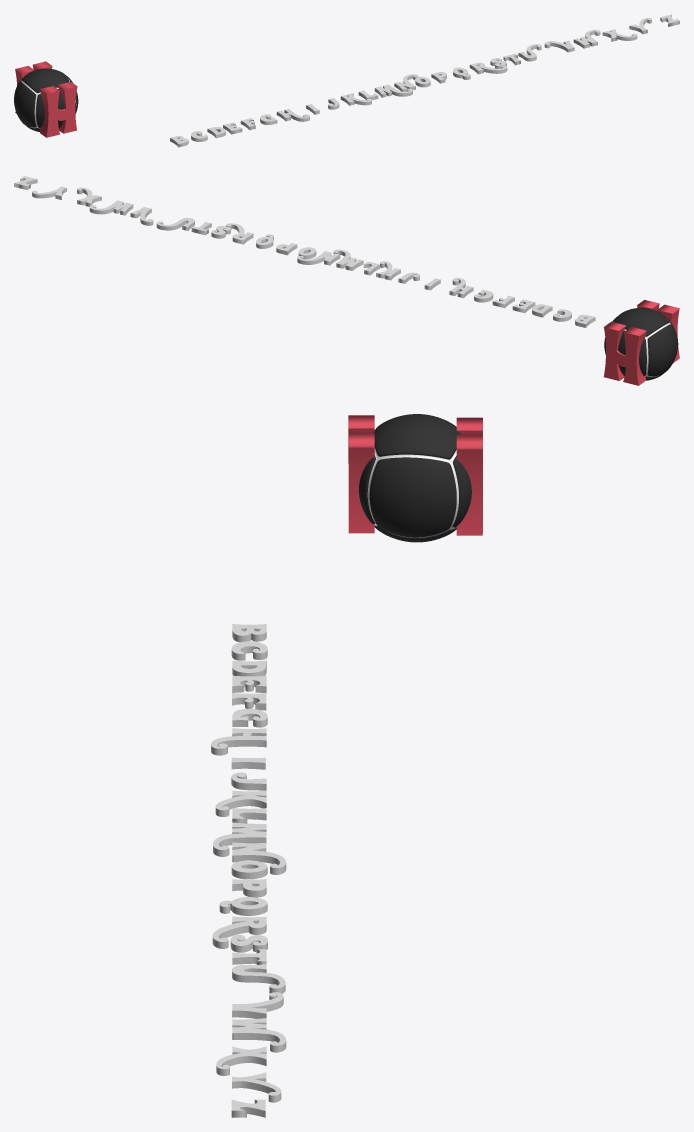
3 views of the same model, one above another, from view 1: azimuth 30°, elevation 25°; view 2: azimuth 150°, elevation 25°; view 3: azimuth 270°, elevation 25° (orthographic). The views are drawn at different scales.
Parts seen in each view (by area): view 1: Cube.001, A, M, A.001, W, R, H, X, N, U, K, V; view 2: Cube.001, A.001, A, W, N, M, U; view 3: Cube.001, A.001, A, W, M, N.
Part boxes in pixels (left/top/right/bottom): Cube.001: left=14, top=68, right=78, bottom=131; A: left=40, top=82, right=77, bottom=137; M: left=374, top=84, right=412, bottom=97; A.001: left=15, top=61, right=52, bottom=113; W: left=573, top=29, right=600, bottom=48; R: left=469, top=62, right=507, bottom=74; H: left=276, top=108, right=309, bottom=121; X: left=602, top=29, right=637, bottom=41; N: left=394, top=74, right=418, bottom=91; U: left=518, top=44, right=541, bottom=61; K: left=340, top=93, right=371, bottom=105; V: left=544, top=40, right=574, bottom=52; Cube.001: left=604, top=308, right=678, bottom=380; A.001: left=603, top=321, right=646, bottom=385; A: left=637, top=300, right=679, bottom=362; W: left=89, top=200, right=133, bottom=215; N: left=297, top=251, right=340, bottom=265; M: left=333, top=249, right=363, bottom=270; U: left=156, top=217, right=194, bottom=230; Cube.001: left=359, top=414, right=471, bottom=542; A.001: left=456, top=417, right=482, bottom=535; A: left=348, top=415, right=374, bottom=533; W: left=232, top=1018, right=286, bottom=1052; M: left=213, top=822, right=266, bottom=856; N: left=232, top=842, right=286, bottom=874.
Size of the model in its own units: 1885 by 185 by 361.
